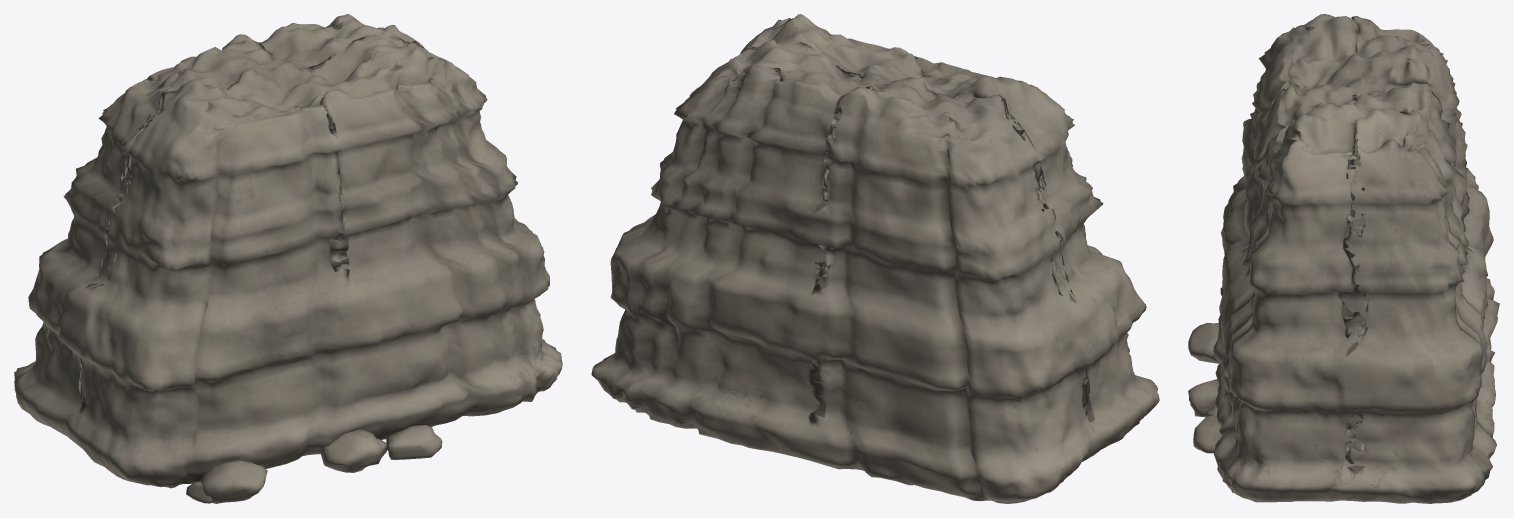
Rendered from grey-outcrop.glb.
3 renders of one model, left to right at view 1: azimuth 30°, elevation 25°; view 2: azimuth 150°, elevation 25°; view 3: azimuth 270°, elevation 25°, orthographic. The views are drawn at different scales.
Visible parts, largest first — view 1: cliff_stone; view 2: cliff_stone; view 3: cliff_stone.
Boxes of the visible parts, x1,y1,x2,y2 form: cliff_stone: (14,14,562,503); cliff_stone: (591,14,1159,503); cliff_stone: (1188,14,1499,503).
Size of the model in its own units: 3.04 by 2.31 by 1.84.
Materials: 1 (1 with a texture image).
